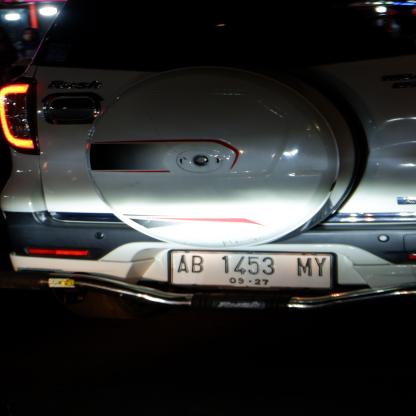Plat-Nomor: (165, 248, 342, 296)
